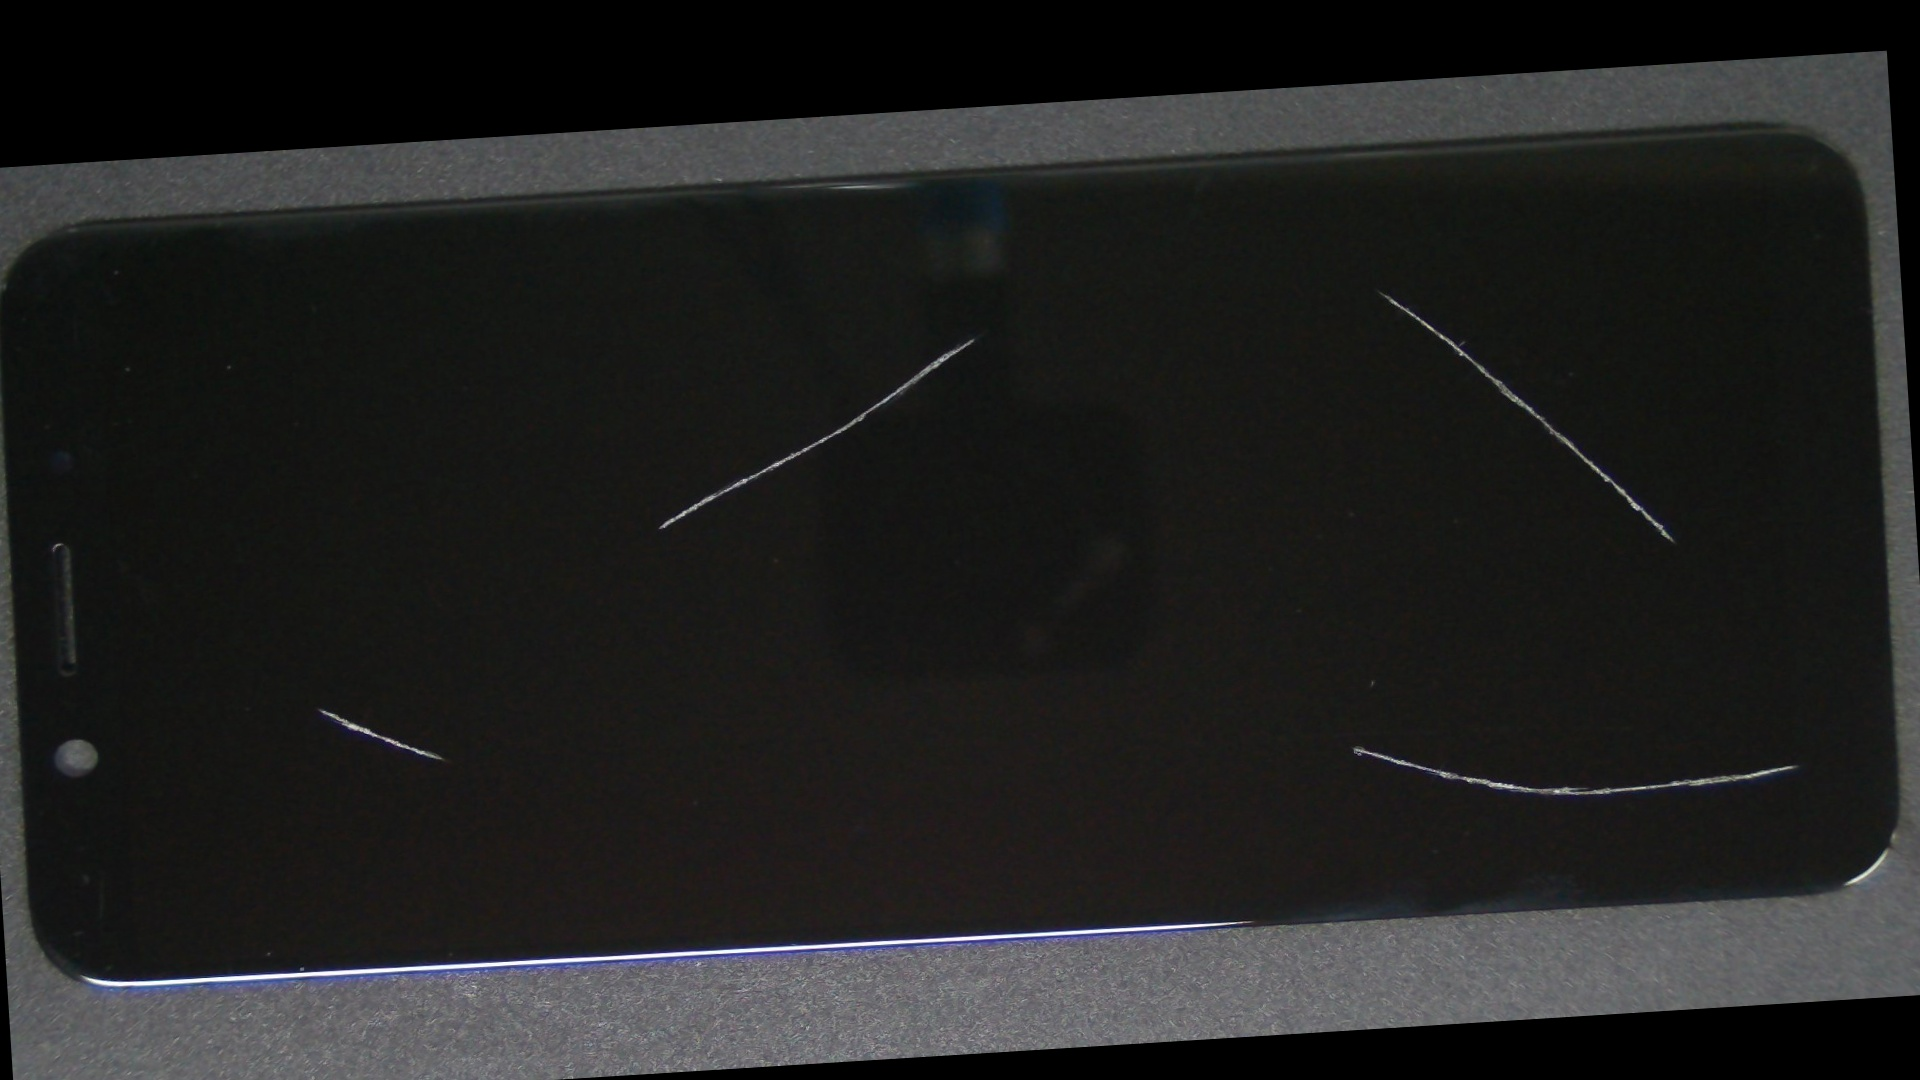oil: (657, 380, 1920, 1071), (666, 154, 1905, 438), (465, 191, 1473, 487), (138, 418, 500, 997)
